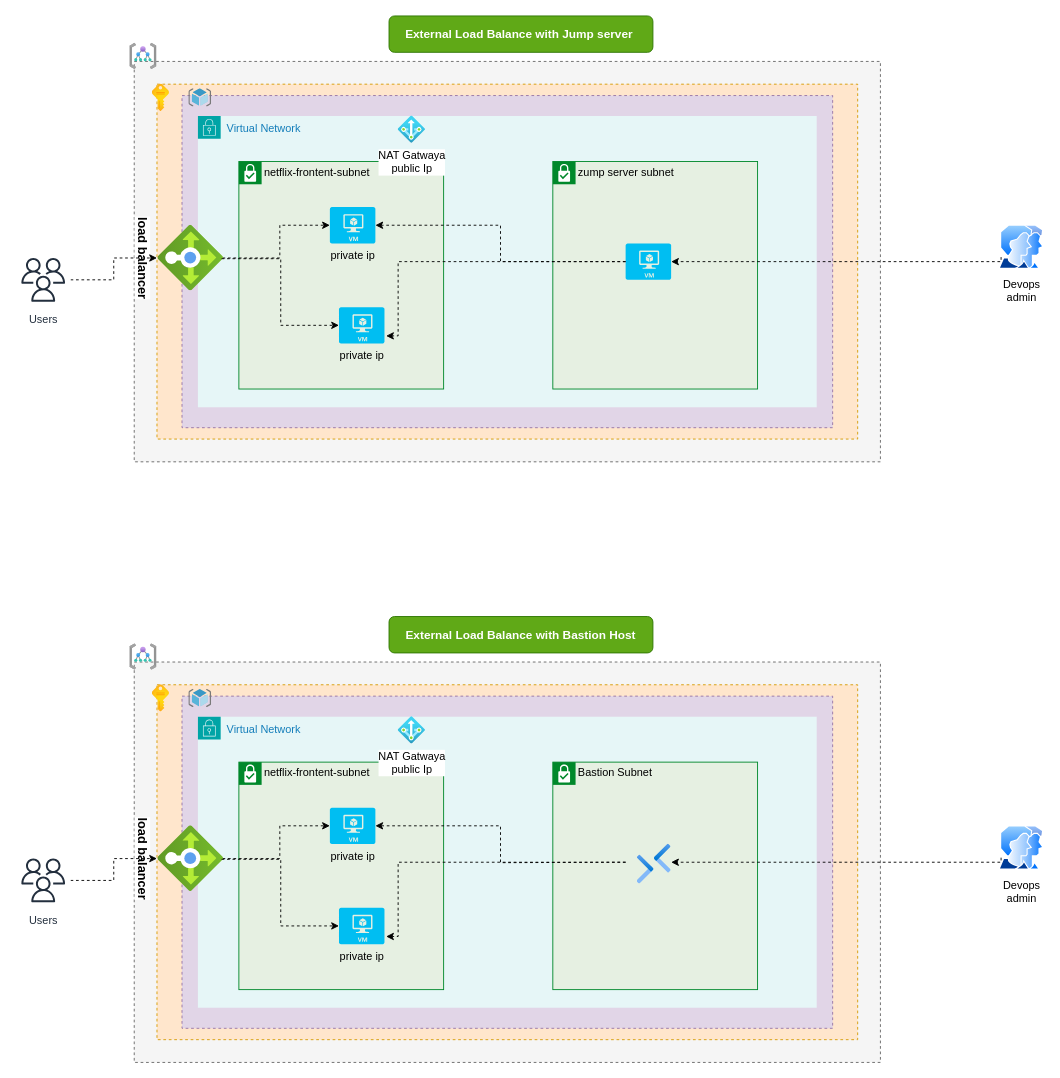
The diagram is 1060 pixels wide and 1078 high, and some of its shapes have lost their labels. The centre of each missing label's shape, as x and y in pixels:
Bastipn host Public IP: pixel 654 864
Public Ip: pixel 648 261
